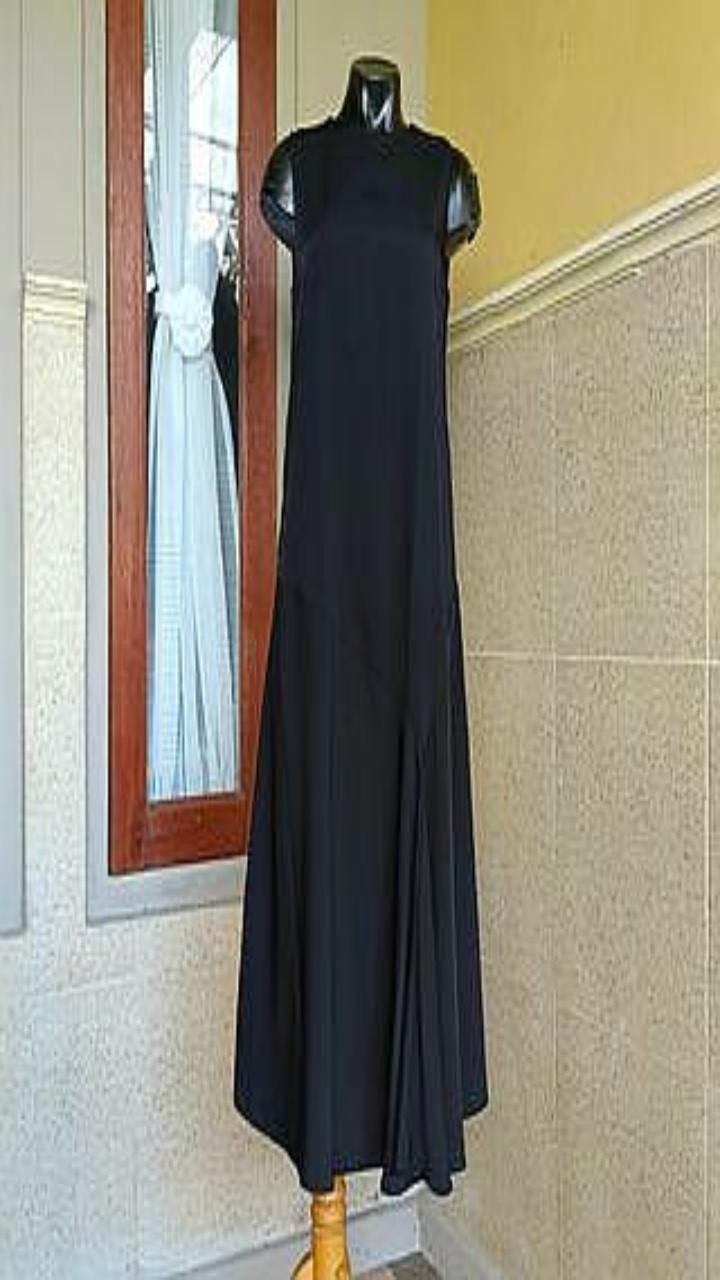Dresses: (234, 116, 487, 1193)
